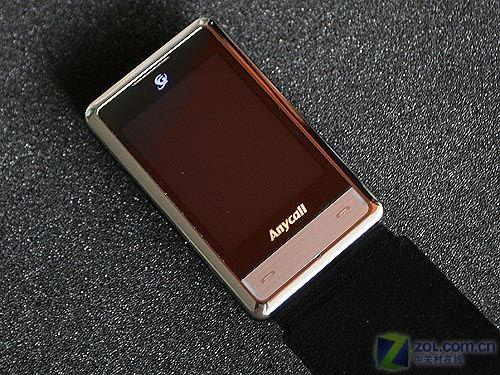phone: (94, 22, 384, 310)
